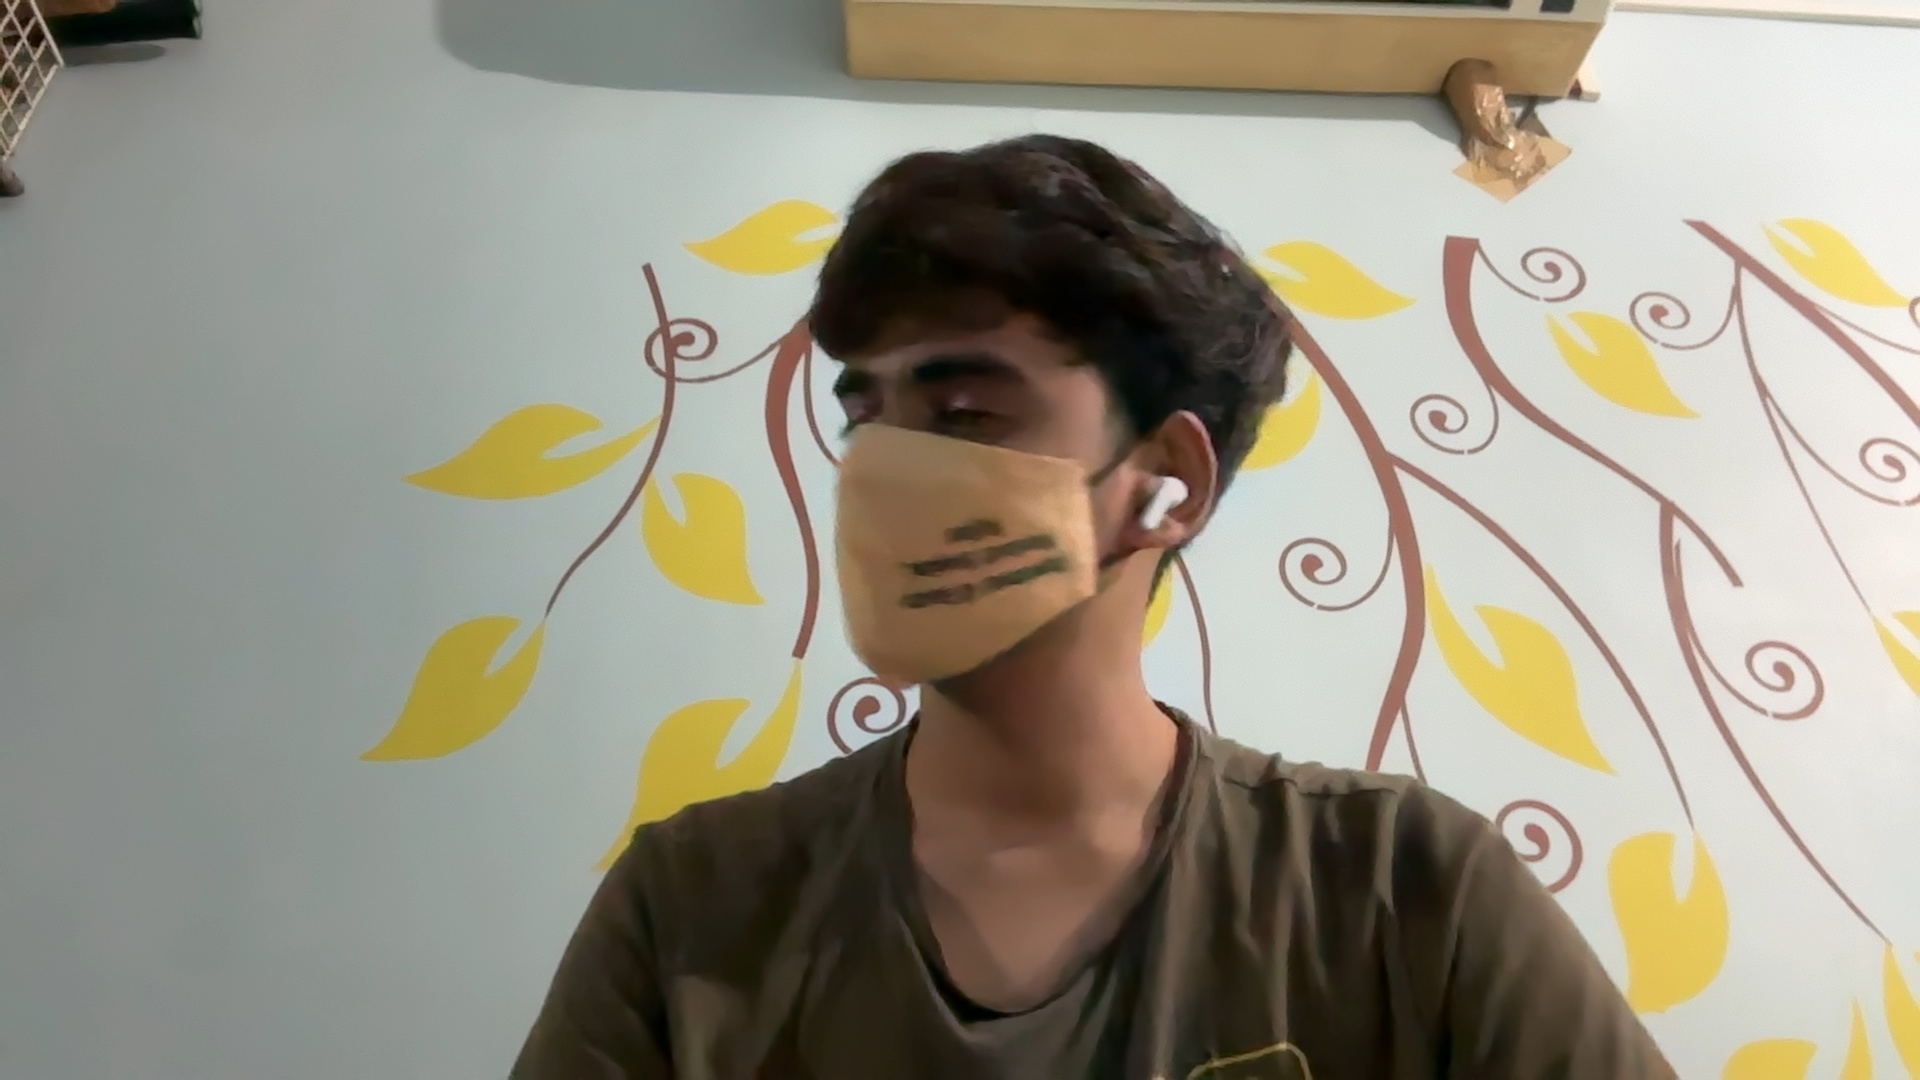Mask: (818, 441, 1104, 708)
